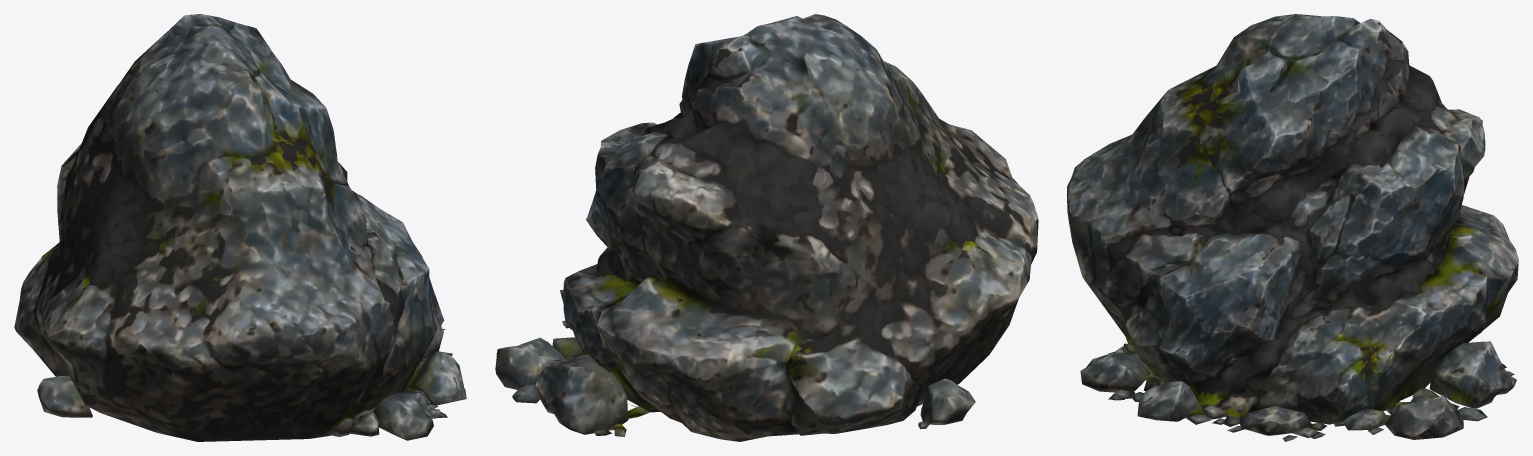
The model's file is kupferstein-leer.glb.
3 views of the same model, side by side, from view 1: azimuth 30°, elevation 25°; view 2: azimuth 150°, elevation 25°; view 3: azimuth 270°, elevation 25° (orthographic). The views are drawn at different scales.
Visible parts, largest first — view 1: baum; view 2: baum; view 3: baum.
Boxes of the visible parts, x1,y1,x2,y2 form: baum: (14,14,466,441); baum: (495,14,1038,441); baum: (1067,14,1518,441).
Size of the model in its own units: 1.52 by 1.2 by 1.5.
1 material, 1 textured.
